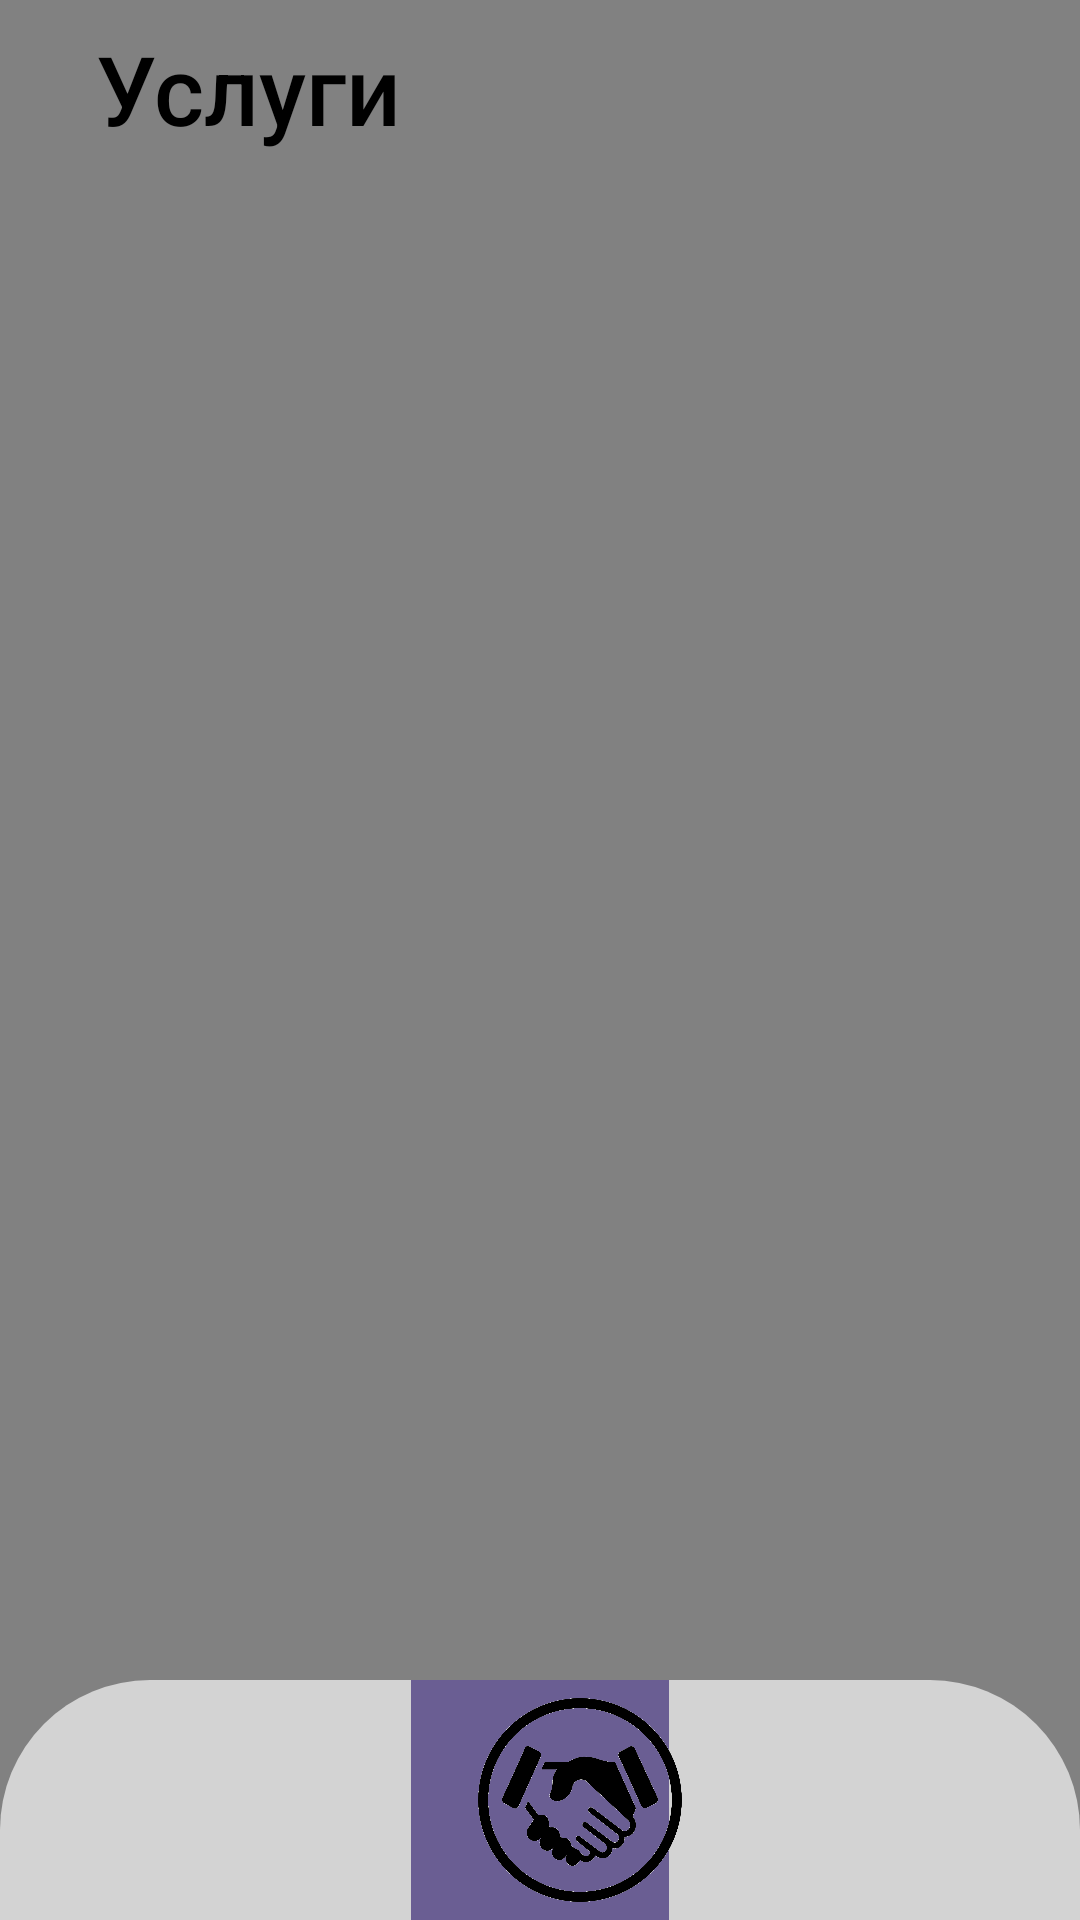

Screen size 1080px×1920px. Icon name, then its center in pixels as point (x, y):
uslugi: point (580, 1800)
